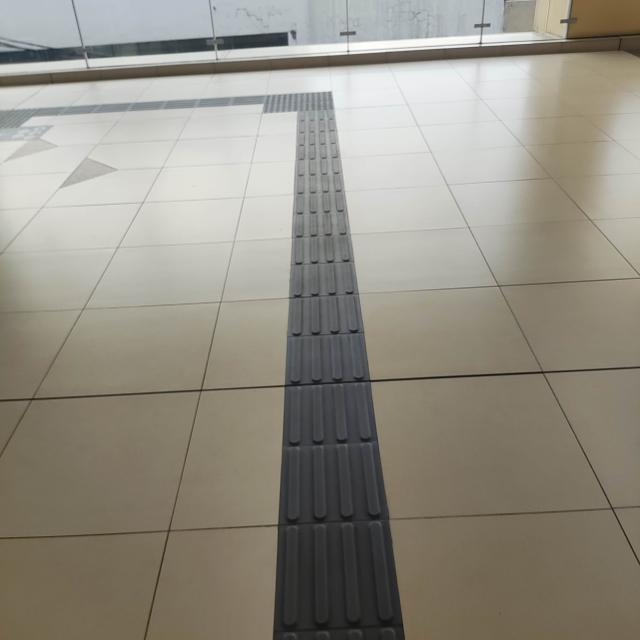kiri: (208, 83, 352, 123)
